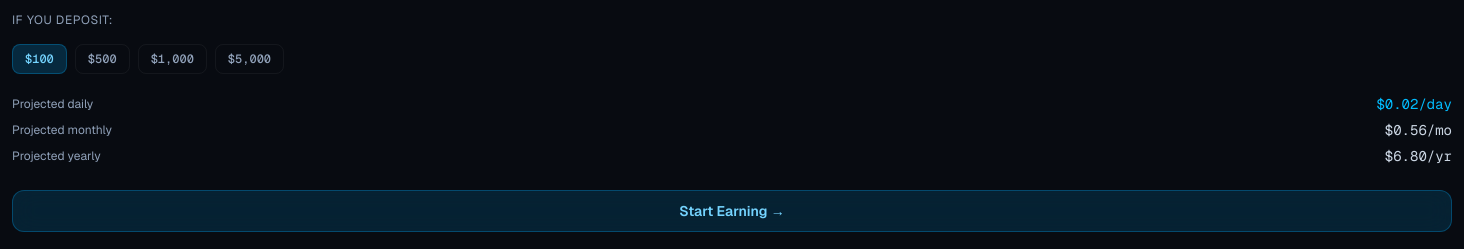
Test case: YieldEstimator › updates projection when a different preset is clicked
The image size is (1464, 249).
Click the button "$1,000": (172, 59) [138, 44, 207, 74]
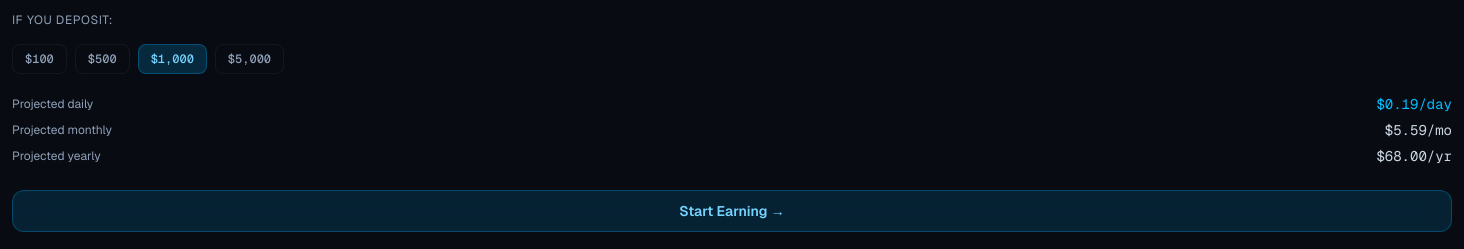
Now the text "$0.19/day" is shown, box [1376, 94, 1452, 114]
